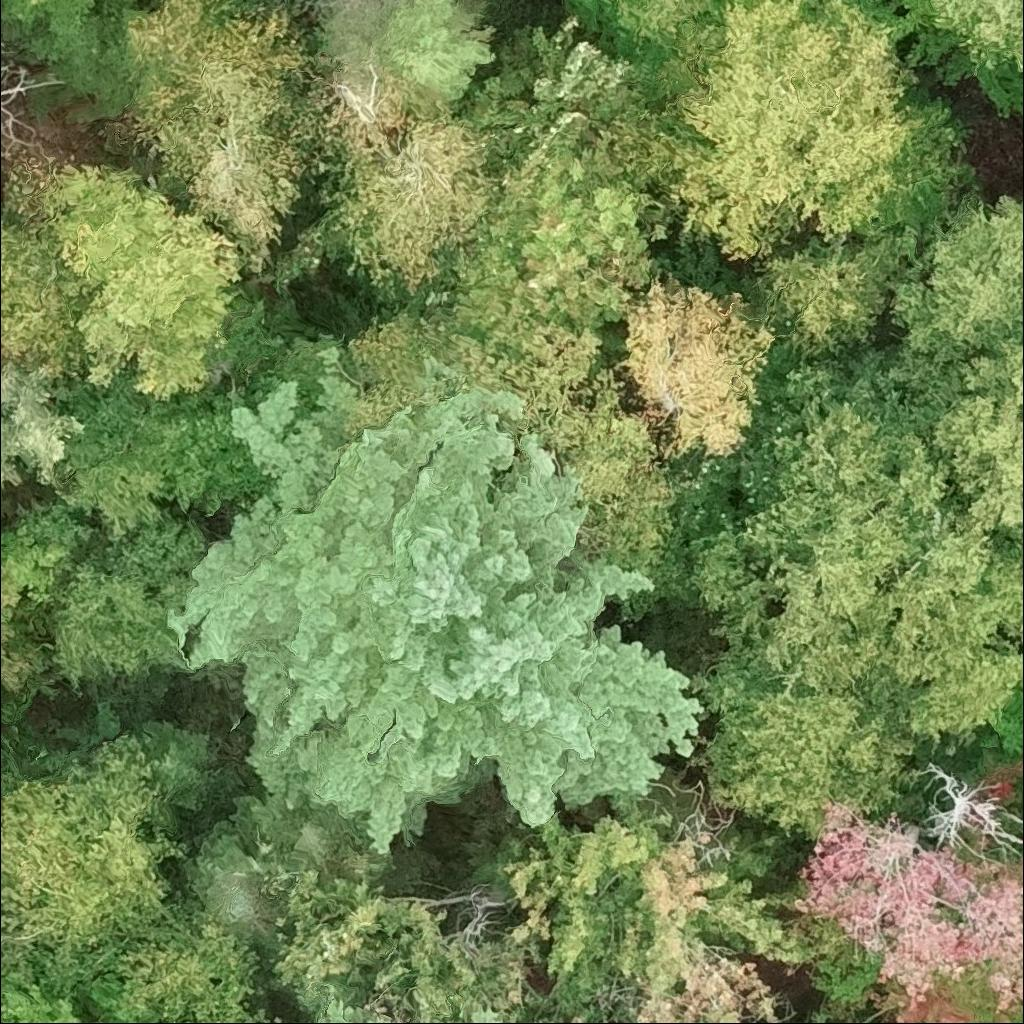crown: (164, 344, 707, 856), (337, 275, 676, 566), (681, 363, 949, 690), (658, 0, 978, 266), (449, 14, 677, 330), (498, 801, 821, 1023), (110, 0, 319, 278), (767, 797, 1023, 1013), (0, 725, 193, 997), (30, 161, 251, 398), (290, 80, 526, 300), (852, 489, 1023, 756), (698, 647, 923, 845), (268, 870, 539, 1023), (48, 375, 264, 557), (618, 272, 782, 466), (48, 516, 210, 689), (880, 193, 1023, 384), (924, 338, 1023, 561), (71, 916, 270, 1023), (759, 238, 895, 366), (0, 0, 146, 116), (231, 791, 394, 894), (0, 215, 95, 370), (178, 817, 286, 948), (378, 0, 491, 111), (0, 360, 89, 488), (857, 966, 1023, 1023), (138, 722, 220, 834), (911, 0, 1023, 78), (597, 0, 715, 51), (0, 618, 54, 695), (0, 978, 80, 1023), (270, 994, 384, 1023), (528, 1007, 600, 1023), (996, 829, 1023, 869), (464, 1006, 502, 1023), (431, 1018, 445, 1023), (28, 0, 41, 5)
